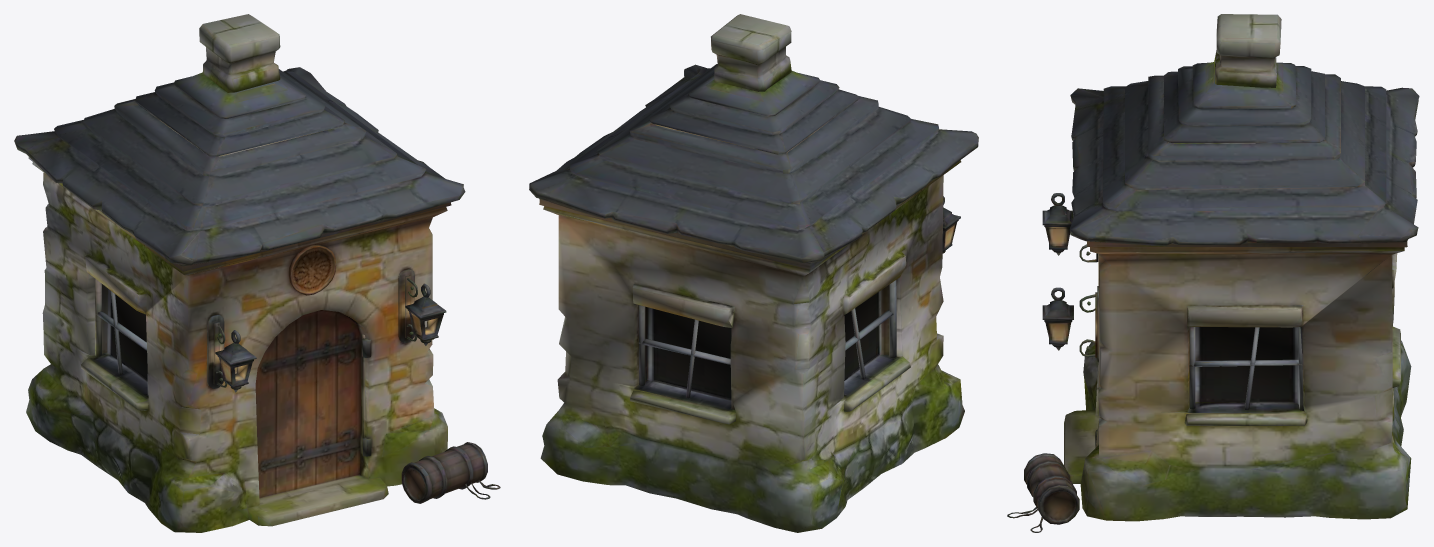
The model's file is civic_bank_strongbox.glb.
3 views of the same model, side by side, from view 1: azimuth 30°, elevation 25°; view 2: azimuth 150°, elevation 25°; view 3: azimuth 270°, elevation 25° (orthographic). The views are drawn at different scales.
Parts seen in each view (by area): view 1: tripo_node_3c622feb-bbc2-4f84-8bcc-af47be122ea8; view 2: tripo_node_3c622feb-bbc2-4f84-8bcc-af47be122ea8; view 3: tripo_node_3c622feb-bbc2-4f84-8bcc-af47be122ea8.
Boxes of the visible parts, <box> form: tripo_node_3c622feb-bbc2-4f84-8bcc-af47be122ea8: <box>14,14,500,532</box>; tripo_node_3c622feb-bbc2-4f84-8bcc-af47be122ea8: <box>529,14,978,532</box>; tripo_node_3c622feb-bbc2-4f84-8bcc-af47be122ea8: <box>1007,14,1419,532</box>.
Size of the model in its own units: 6.09 by 8 by 6.97.
1 material, 1 textured.
